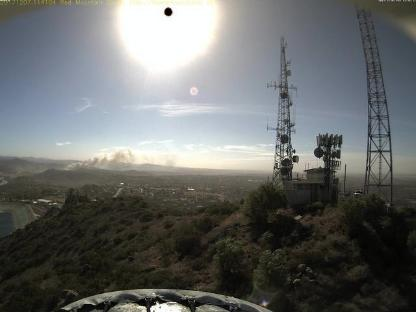smoke: (61, 144, 174, 172)
